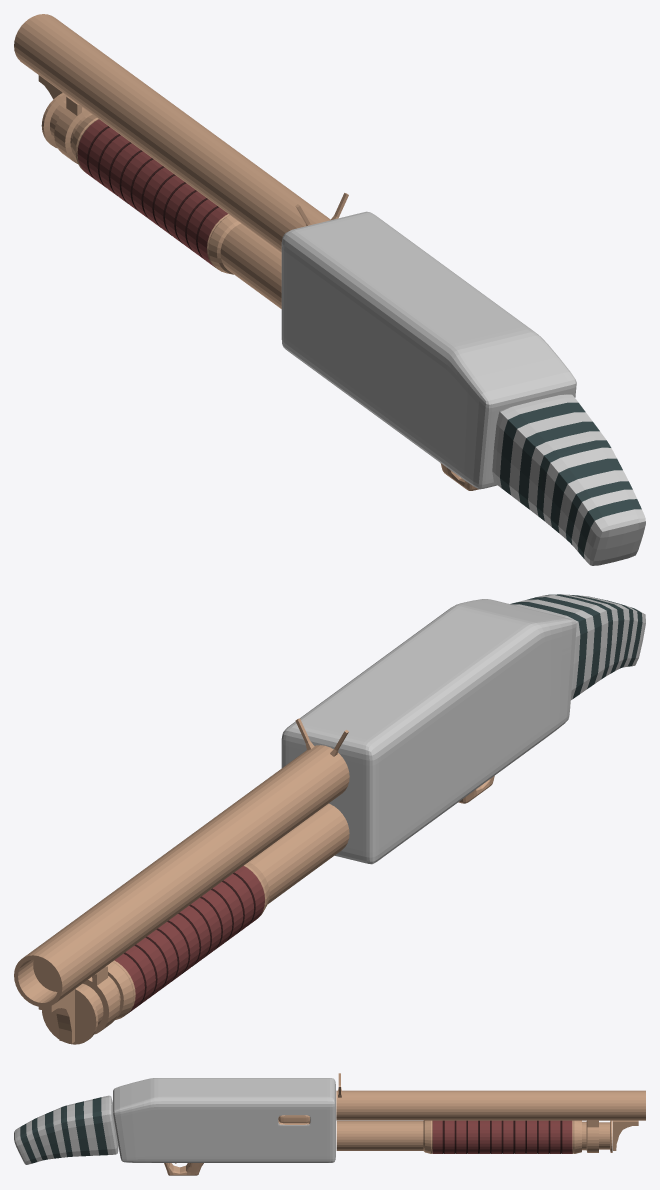
File: _eapon2.fbx
The picture shows the model from 3 angles, top to bottom: view 1: azimuth 30°, elevation 25°; view 2: azimuth 150°, elevation 25°; view 3: azimuth 270°, elevation 25°; orthographic projection. The views are drawn at different scales.
Visible parts, largest first — view 1: Cube, Cylinder, Cube.002, Cylinder.001; view 2: Cube, Cylinder, Cylinder.001, Cube.002, Cube.001; view 3: Cube, Cylinder, Cylinder.001, Cube.002, Cube.001.
Boxes of the visible parts, x1,y1,x2,y2 form: Cube: (281, 211, 576, 490); Cylinder: (14, 14, 348, 252); Cube.002: (492, 394, 645, 565); Cylinder.001: (41, 93, 281, 308); Cube: (281, 599, 576, 864); Cylinder: (14, 718, 349, 1007); Cylinder.001: (42, 803, 349, 1044); Cube.002: (510, 594, 645, 700); Cube.001: (38, 989, 74, 1043); Cube: (113, 1078, 335, 1175); Cylinder: (336, 1073, 645, 1120); Cylinder.001: (336, 1120, 612, 1153); Cube.002: (14, 1095, 118, 1164); Cube.001: (613, 1120, 638, 1150).
Bounding box in the file's own units: 54.19 × 95.21 × 582.
